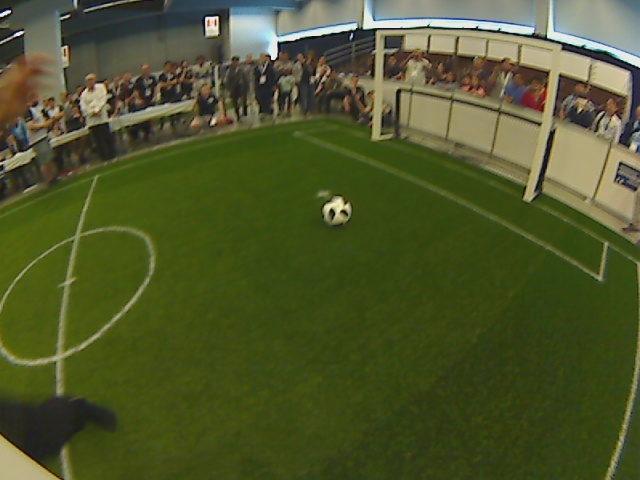ball: (319, 195, 351, 226)
